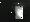person: (13, 4, 23, 19)
